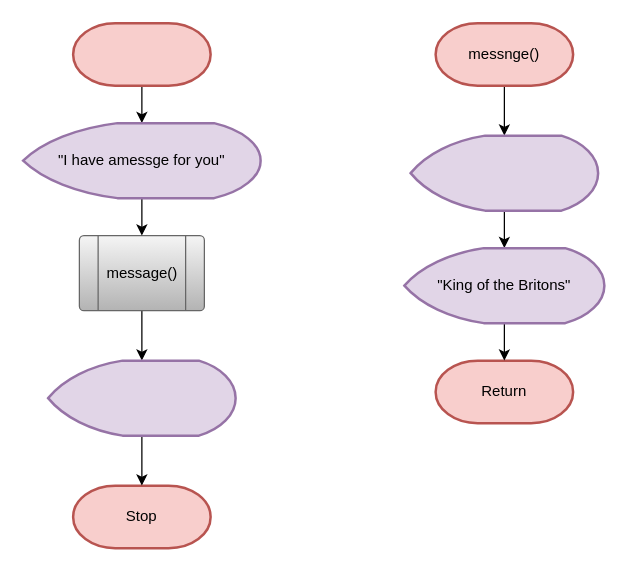
Some shapes in this 626 by 570 pixel diagram are drawn without their labels. Here are the shapes that lost their labels. From the top down, the centre of each, then its label:
(141,53): Start
(504,172): "I am Arthur"
(141,397): "Goodbye!"
